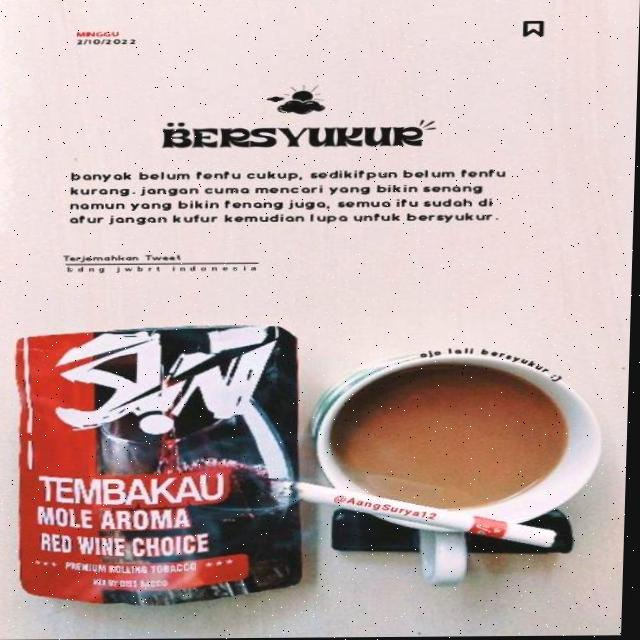cigarette: (280, 479, 560, 552)
